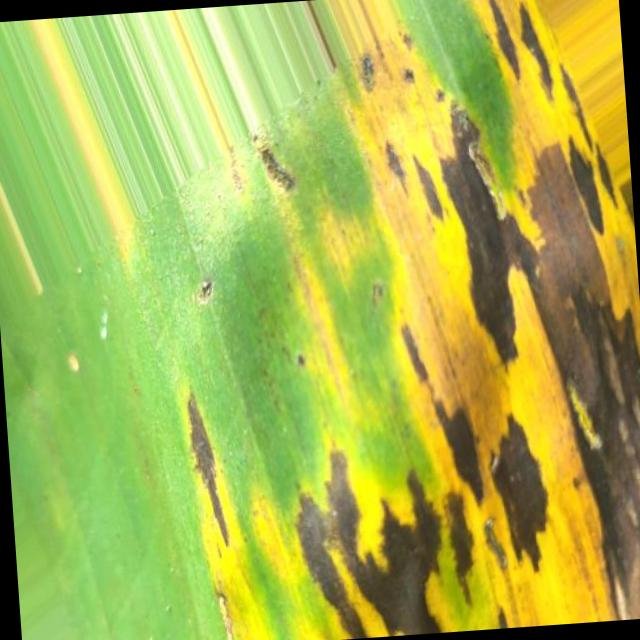Banana_Black_Sigatoka: (378, 3, 640, 633), (167, 388, 438, 640)
